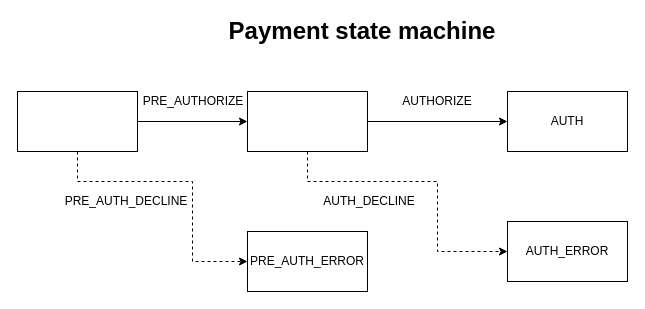
This 645x309 diagram has some shape labels left out. The shapes that lost their labels are listed below. From the top down, each one's box as (x1, y1, x2, y2) in pixels, then its label:
(16, 90, 138, 152): NEW
(246, 90, 368, 152): PRE_AUTH
